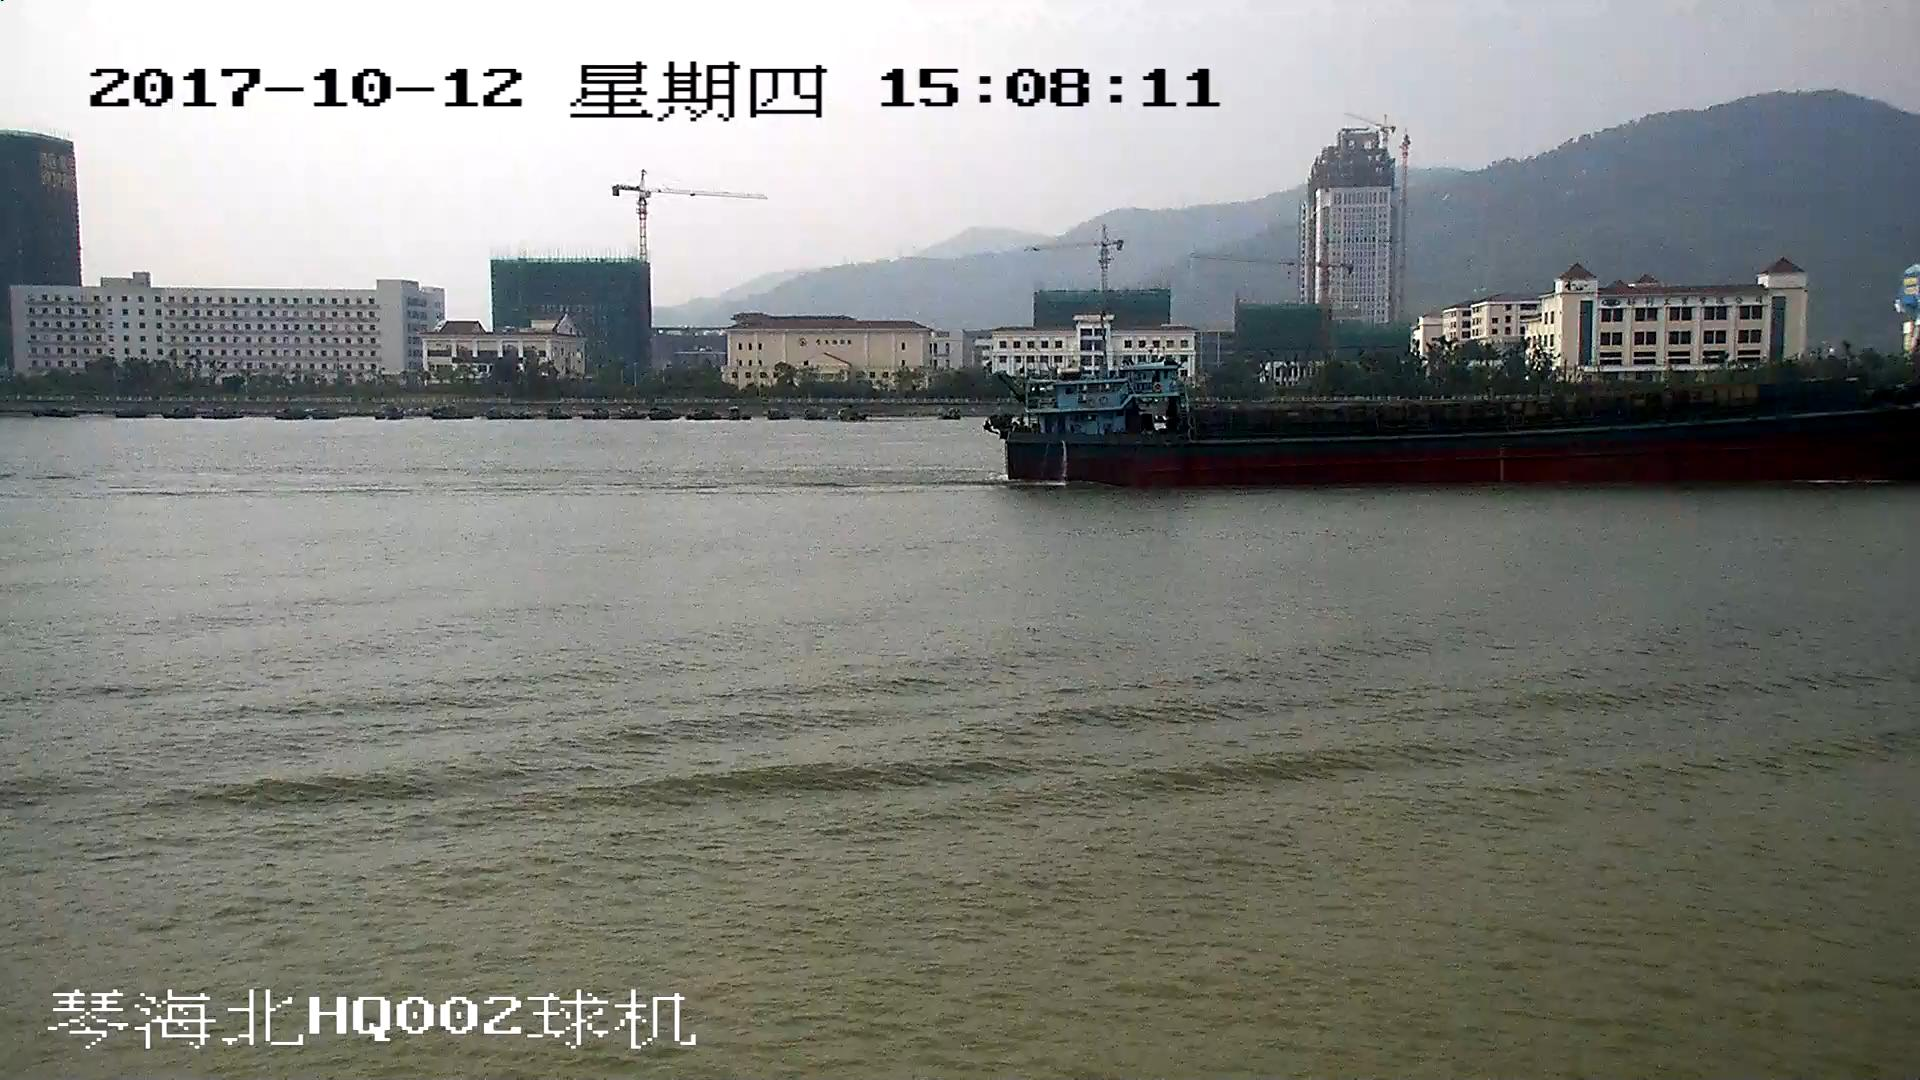bulk cargo carrier: (997, 365, 1920, 485)
